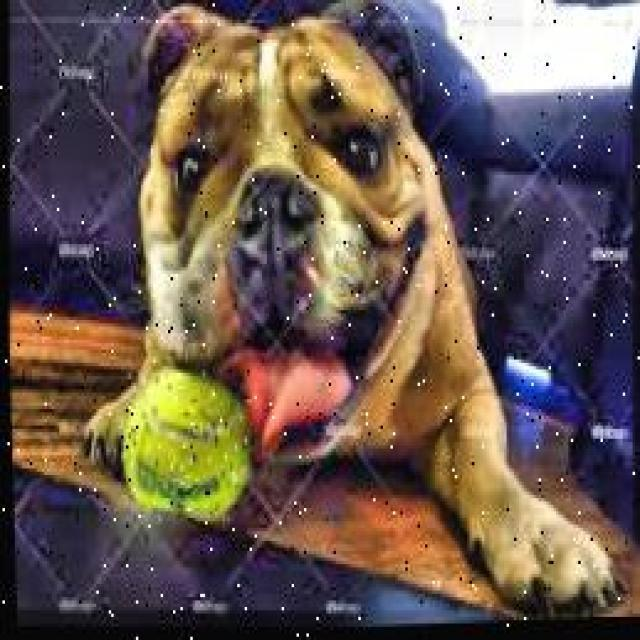tennis-ball: (114, 366, 252, 531)
